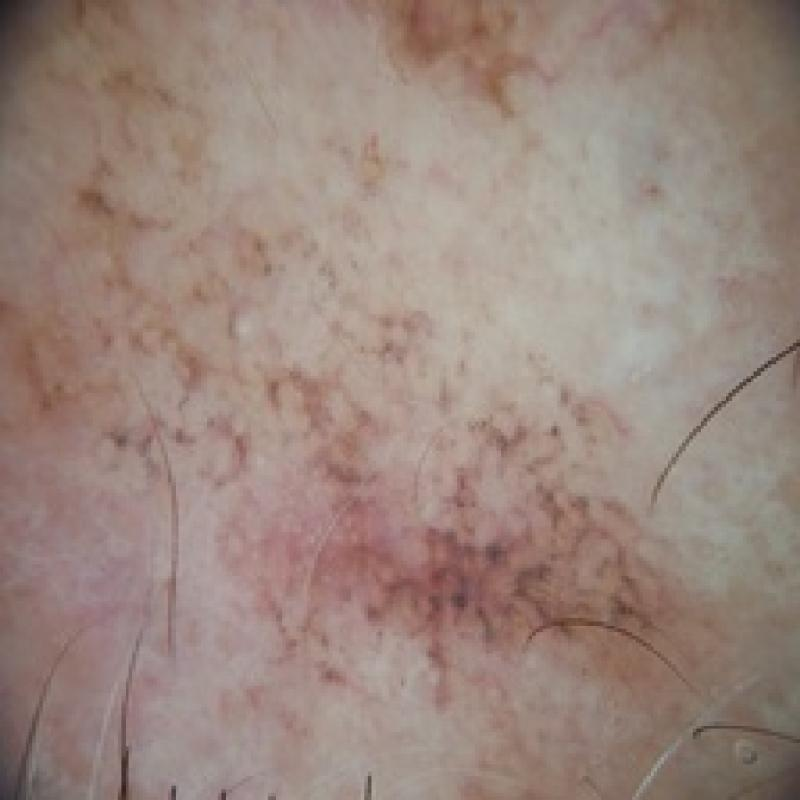malignant: (31, 134, 690, 679)
